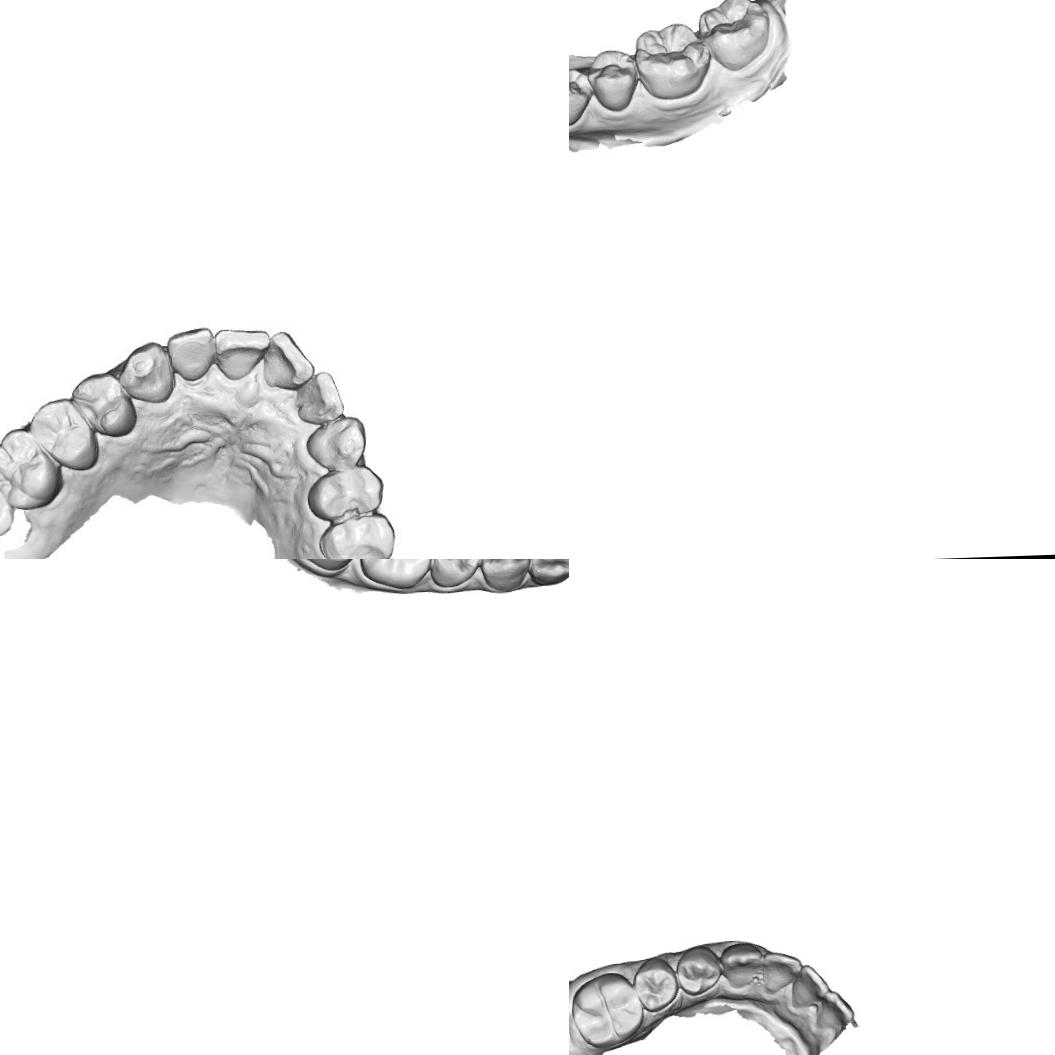canine: (121, 343, 171, 401), (308, 418, 364, 468), (716, 942, 764, 990), (527, 559, 569, 586)
incisor: (216, 327, 268, 377), (168, 329, 215, 380), (262, 332, 308, 384), (295, 375, 345, 422), (759, 948, 804, 995), (812, 988, 856, 1032), (789, 962, 831, 1008)
molar: (632, 20, 714, 102), (570, 972, 646, 1050), (694, 0, 773, 73), (0, 430, 56, 508), (357, 559, 436, 591)
premolar: (32, 400, 95, 474), (587, 47, 640, 112), (73, 374, 129, 434), (317, 468, 384, 516), (320, 517, 391, 559), (632, 954, 680, 1014), (674, 942, 723, 999), (478, 559, 532, 593), (569, 66, 595, 129), (429, 559, 482, 589)
